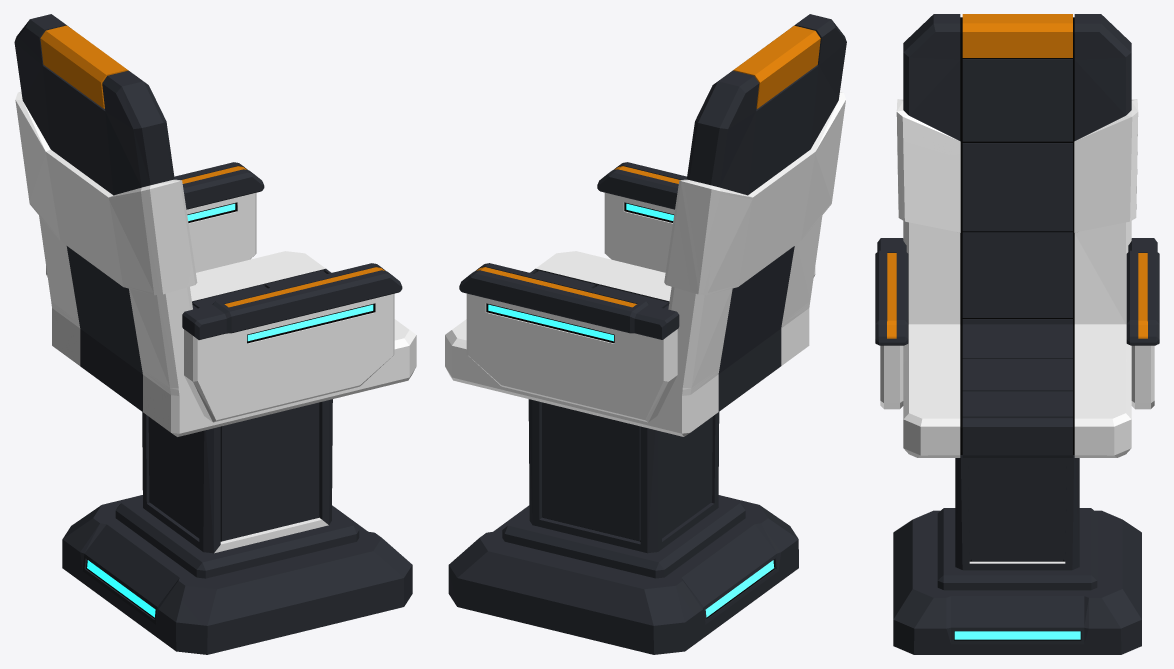
File: command_chair.glb
3 renders of one model, left to right at view 1: azimuth 30°, elevation 25°; view 2: azimuth 150°, elevation 25°; view 3: azimuth 270°, elevation 25°, orthographic. The views are drawn at different scales.
Parts seen in each view (by area): view 1: SM_Operator_Command_Chair; view 2: SM_Operator_Command_Chair; view 3: SM_Operator_Command_Chair.
Part boxes in pixels (x1,y1,x2,y2): SM_Operator_Command_Chair: (14, 14, 416, 654); SM_Operator_Command_Chair: (445, 14, 846, 654); SM_Operator_Command_Chair: (875, 14, 1159, 654).
Size of the model in its own units: 0.5918 by 1.1 by 0.547.
